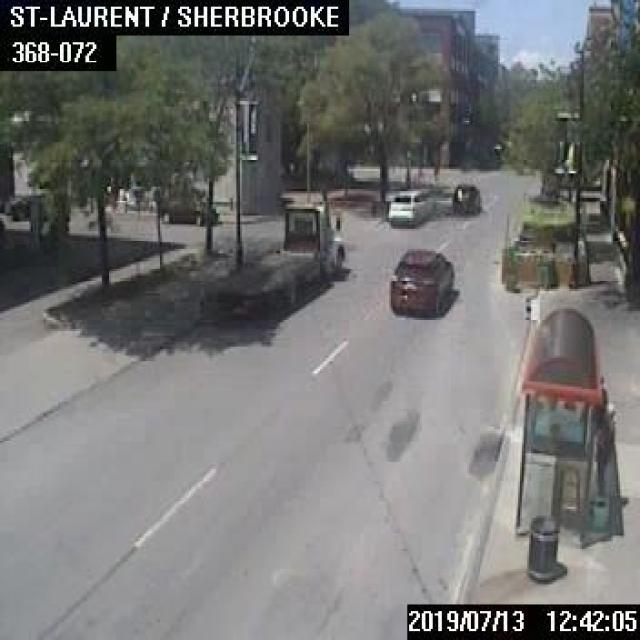pedestrian: (592, 385, 616, 485)
vehicle: (202, 202, 344, 327), (388, 247, 451, 313), (387, 184, 435, 224), (159, 197, 217, 224), (449, 180, 478, 213), (0, 194, 29, 217)
